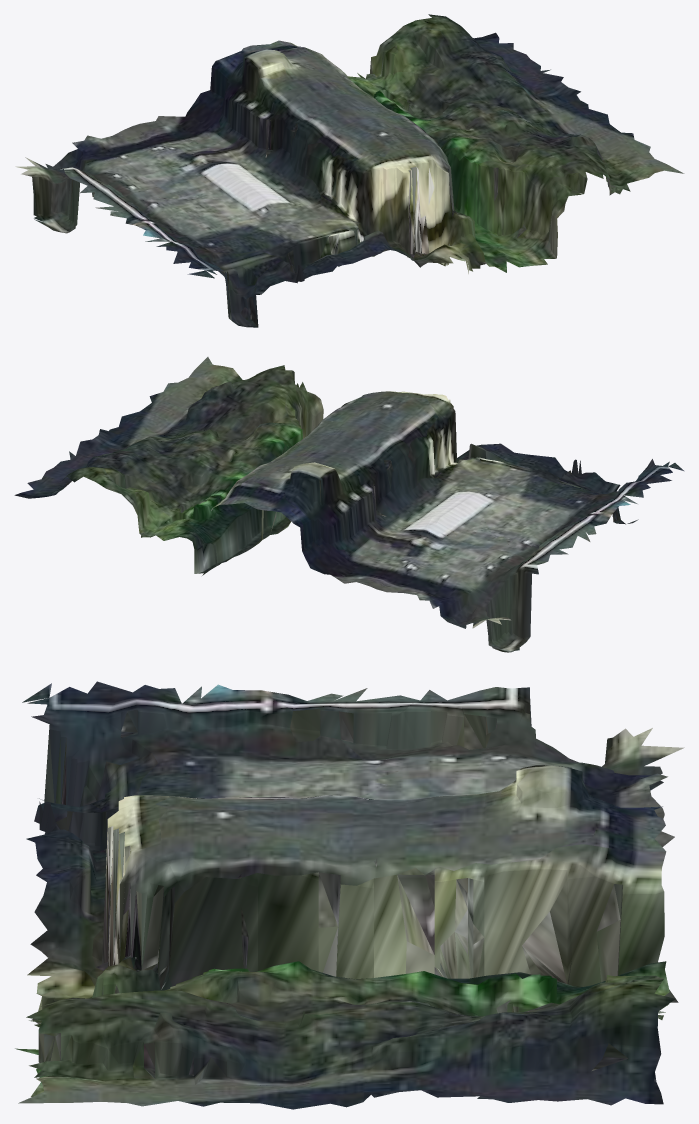
The model's file is Tile_000_001_L14_4122.glb.
The picture shows the model from 3 angles, top to bottom: view 1: azimuth 30°, elevation 25°; view 2: azimuth 150°, elevation 25°; view 3: azimuth 270°, elevation 25°; orthographic projection. The views are drawn at different scales.
Parts seen in each view (by area): view 1: rtc; view 2: rtc; view 3: rtc.
Part boxes in pixels (bbox=[...]): rtc: bbox=[15, 14, 684, 327]; rtc: bbox=[14, 357, 684, 652]; rtc: bbox=[15, 681, 684, 1109].
Size of the model in its own units: 86.87 by 22.05 by 60.71.
1 material, 1 textured.
